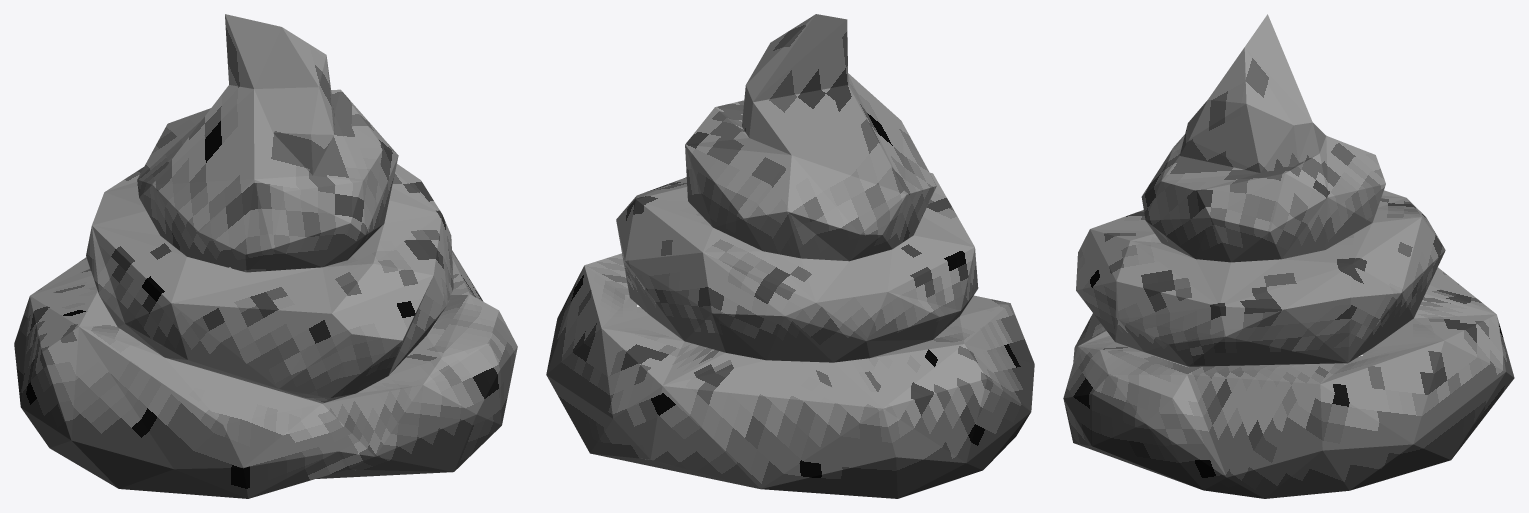
File: cool_Rock.fbx
3 views of the same model, side by side, from view 1: azimuth 30°, elevation 25°; view 2: azimuth 150°, elevation 25°; view 3: azimuth 270°, elevation 25° (orthographic). The views are drawn at different scales.
Parts seen in each view (by area): view 1: Mesh_0.002; view 2: Mesh_0.002; view 3: Mesh_0.002.
Part boxes in pixels (box(x1,y1,x2,y2)): Mesh_0.002: box(14, 14, 517, 498); Mesh_0.002: box(546, 14, 1034, 498); Mesh_0.002: box(1063, 14, 1514, 498).
Size of the model in its own units: 0.0987 by 0.0899 by 0.0967.
1 material, 1 textured.
